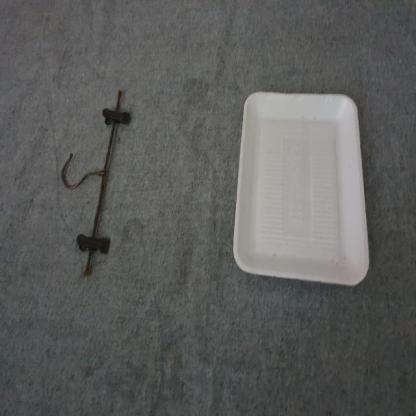Glass Cup: (233, 92, 370, 287), (234, 92, 369, 286)
